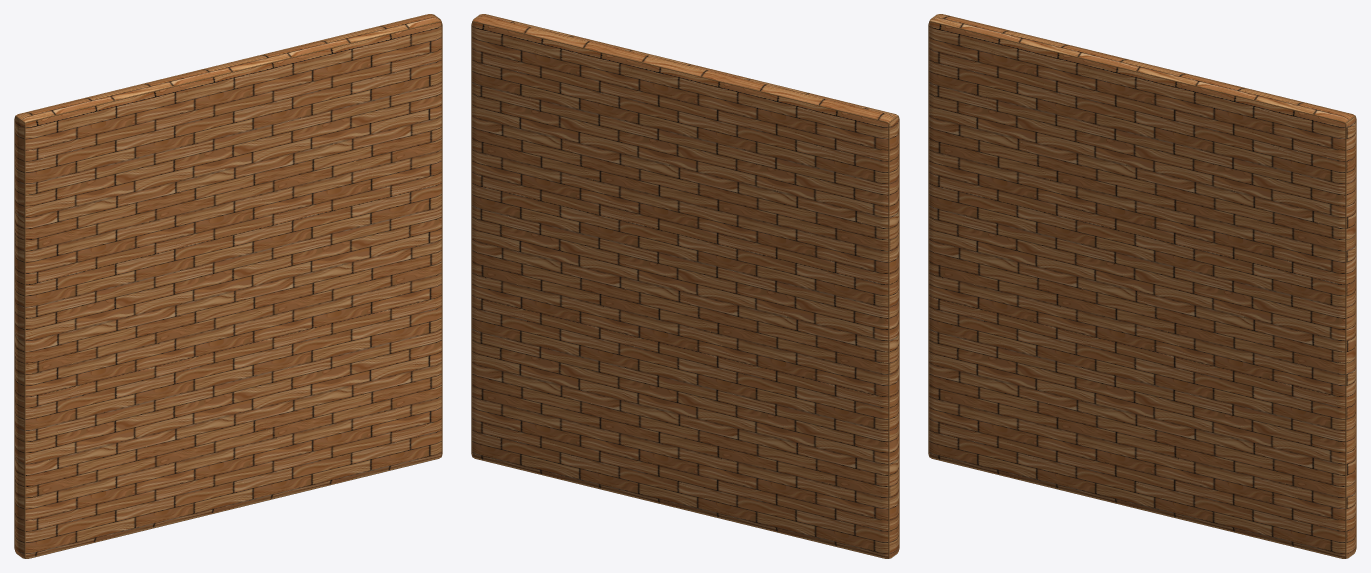
The model's file is SM_SoftFoam_Wall_20_4x4M.fbx.
3 renders of one model, left to right at view 1: azimuth 30°, elevation 25°; view 2: azimuth 150°, elevation 25°; view 3: azimuth 330°, elevation 25°, orthographic.
Visible parts, largest first — view 1: SM_SoftFoam_Wall_20_4x4; view 2: SM_SoftFoam_Wall_20_4x4; view 3: SM_SoftFoam_Wall_20_4x4.
Boxes of the visible parts, left/top/right/bottom form: SM_SoftFoam_Wall_20_4x4: left=14, top=14, right=442, bottom=558; SM_SoftFoam_Wall_20_4x4: left=471, top=14, right=899, bottom=558; SM_SoftFoam_Wall_20_4x4: left=928, top=14, right=1356, bottom=558.
Size of the model in its own units: 390 by 390 by 20.
